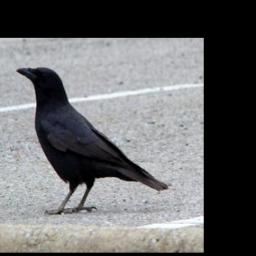Crow: (16, 66, 169, 215)
